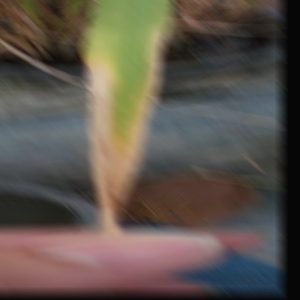Leaf_Blast: (80, 9, 165, 226)
